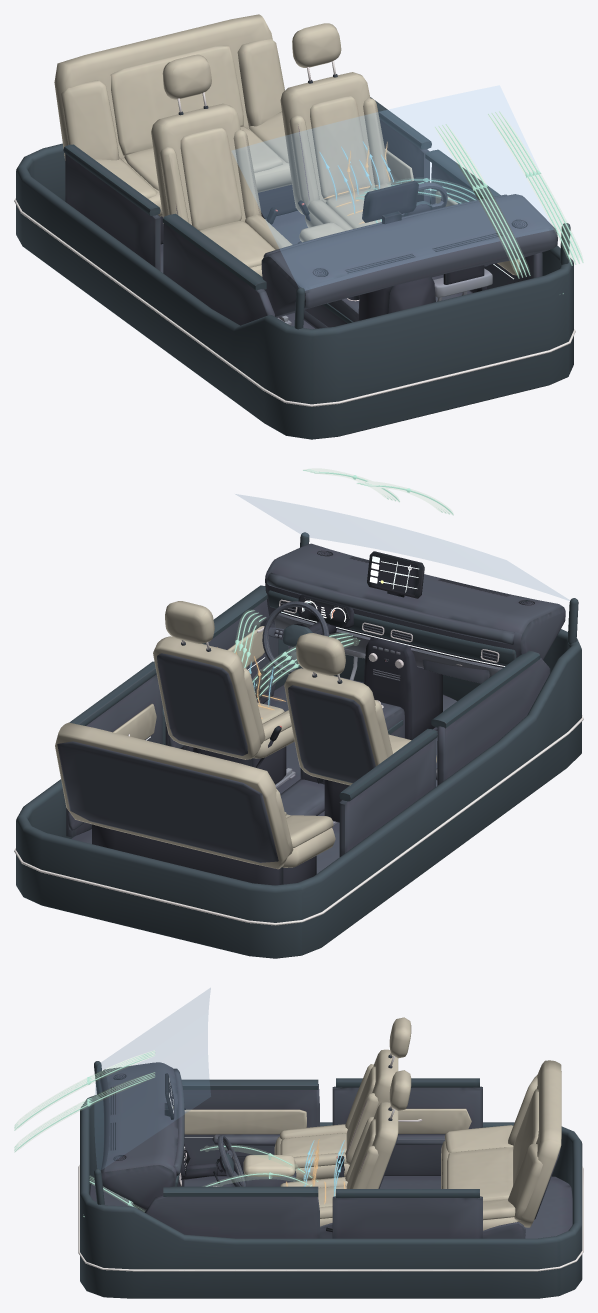
The model's file is cabin-budget.glb.
3 renders of one model, top to bottom at view 1: azimuth 30°, elevation 25°; view 2: azimuth 150°, elevation 25°; view 3: azimuth 270°, elevation 25°, orthographic. The views are drawn at different scales.
Visible parts, largest first — view 1: modern-car-interior_body, modern-car-interior_windshield_glass, modern-car-interior_steering_wheel; view 2: modern-car-interior_body, modern-car-interior_windshield_glass, modern-car-interior_steering_wheel; view 3: modern-car-interior_body, modern-car-interior_windshield_glass, modern-car-interior_steering_wheel, afterglow_vent_driver.
Boxes of the visible parts, x1,y1,x2,y2 form: modern-car-interior_body: (14,14,575,439); modern-car-interior_windshield_glass: (232,85,553,290); modern-car-interior_steering_wheel: (401,182,447,216); modern-car-interior_body: (14,532,583,958); modern-car-interior_windshield_glass: (236,494,569,600); modern-car-interior_steering_wheel: (262,601,329,674); modern-car-interior_body: (78,1017,583,1298); modern-car-interior_windshield_glass: (94,988,210,1169); modern-car-interior_steering_wheel: (217,1135,245,1186); afterglow_vent_driver: (303,1140,344,1196).
Bounding box in the file's own units: 1.8 × 1.4 × 3.56.
20 materials, 2 textured.
